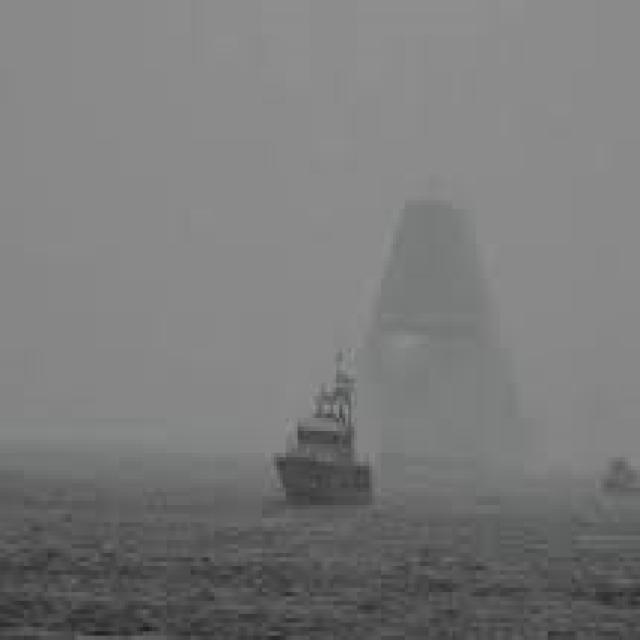houseboat: (264, 348, 379, 504)
